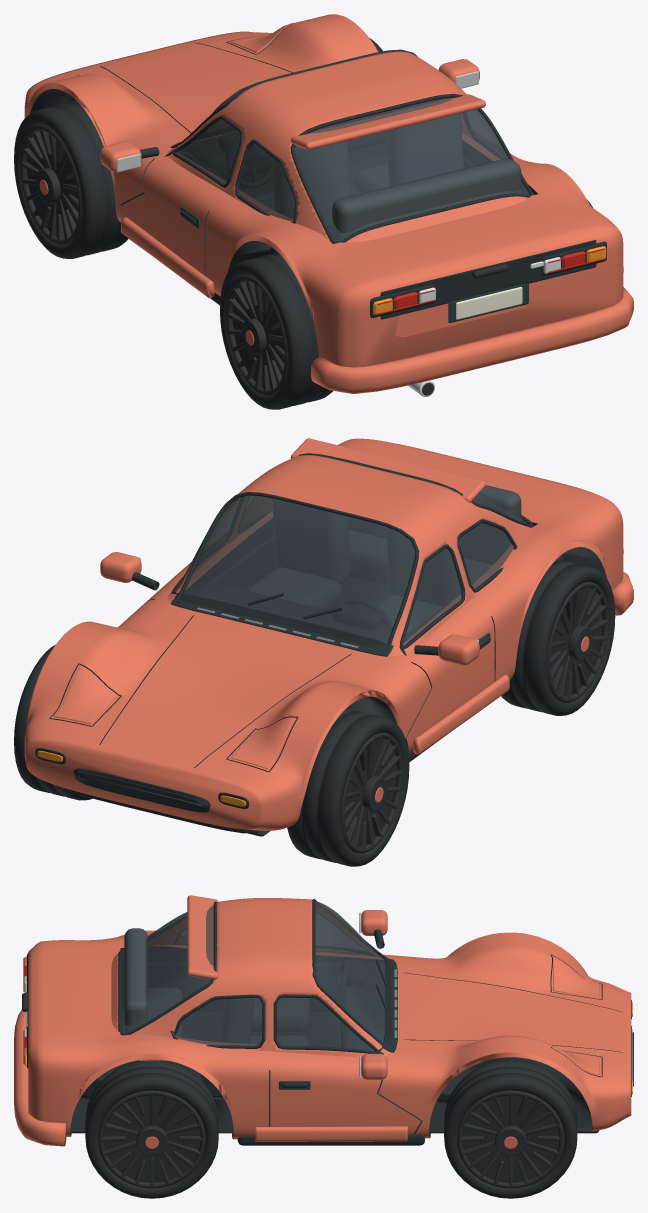
Rendered from yoru.fbx.
The picture shows the model from 3 angles, top to bottom: view 1: azimuth 30°, elevation 25°; view 2: azimuth 150°, elevation 25°; view 3: azimuth 270°, elevation 25°; orthographic projection. The views are drawn at different scales.
Parts seen in each view (by area): view 1: Body, Wheel_FL_Mesh, Wheel_RL_Mesh; view 2: Body, Wheel_FL_Mesh, Wheel_RL_Mesh, Wheel_FR_Mesh; view 3: Body, Wheel_FR_Mesh, Wheel_RR_Mesh.
Part boxes in pixels (x1=…): Body: x1=24, y1=14, x2=633, y2=396; Wheel_FL_Mesh: x1=14, y1=100, x2=128, y2=258; Wheel_RL_Mesh: x1=220, y1=252, x2=332, y2=409; Body: x1=24, y1=438, x2=633, y2=836; Wheel_FL_Mesh: x1=287, y1=708, x2=409, y2=866; Wheel_RL_Mesh: x1=501, y1=558, x2=615, y2=715; Wheel_FR_Mesh: x1=14, y1=645, x2=92, y2=800; Body: x1=14, y1=895, x2=633, y2=1146; Wheel_FR_Mesh: x1=444, y1=1059, x2=577, y2=1198; Wheel_RR_Mesh: x1=85, y1=1061, x2=218, y2=1198.
Size of the model in its own units: 234 by 142 by 391.
